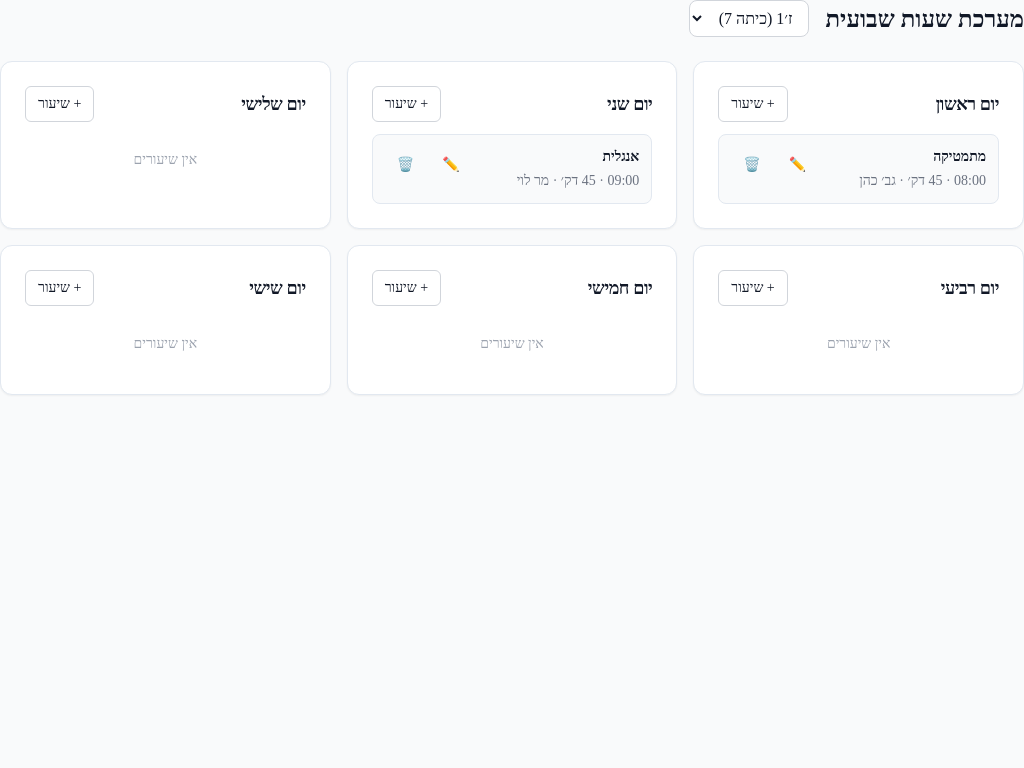
Test: ScheduleBuilder › add template › opens create form when clicking add button
The width and height of the screenshot is (1024, 768).
Click the button with aria-label "הוסף שיעור ליום ראשון" at (753, 104), box [718,86,788,122]
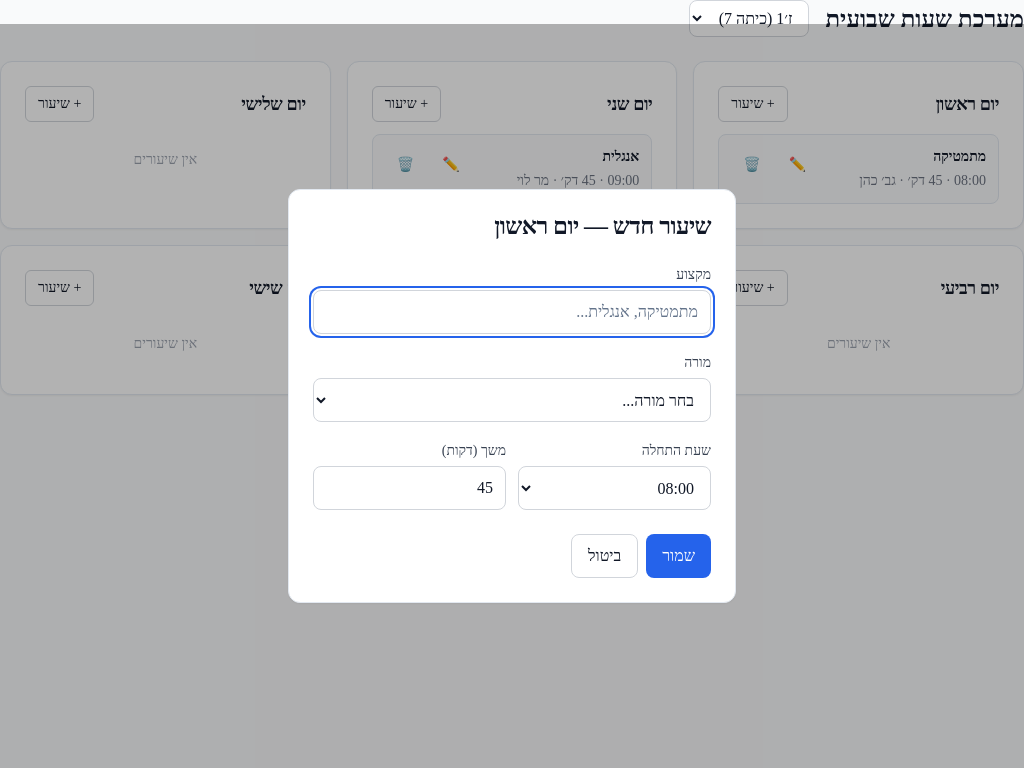
Now the heading "שיעור חדש — יום ראשון" is shown, box [494,213,711,239]
Now the field labelled "מקצוע" is shown, box [313,290,711,334]
Now the dropdown labelled "מורה" is shown, box [313,378,711,422]
